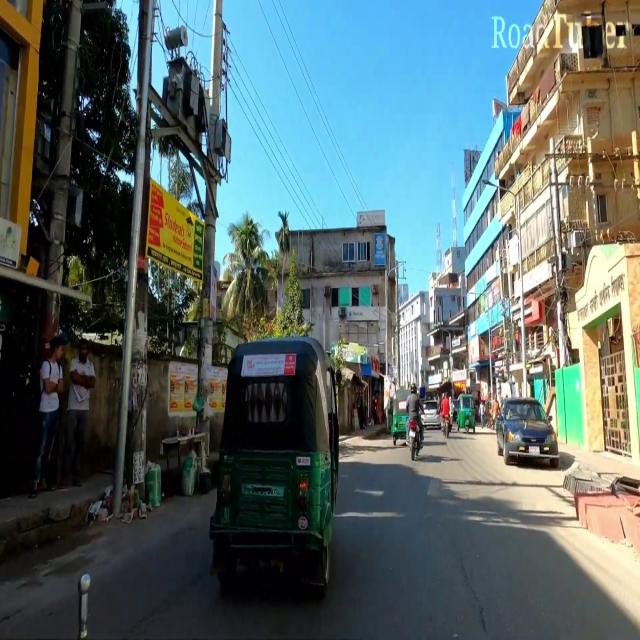blue: (496, 397, 560, 469)
